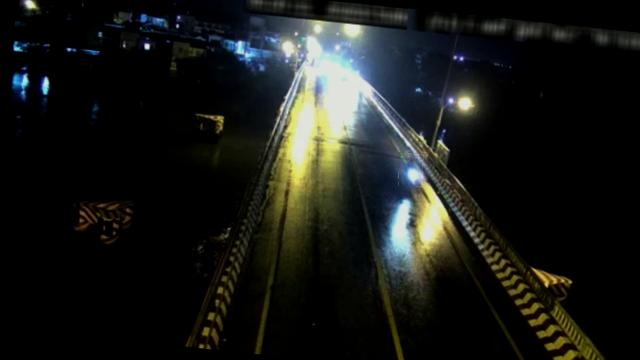Bike: (397, 153, 424, 188)
